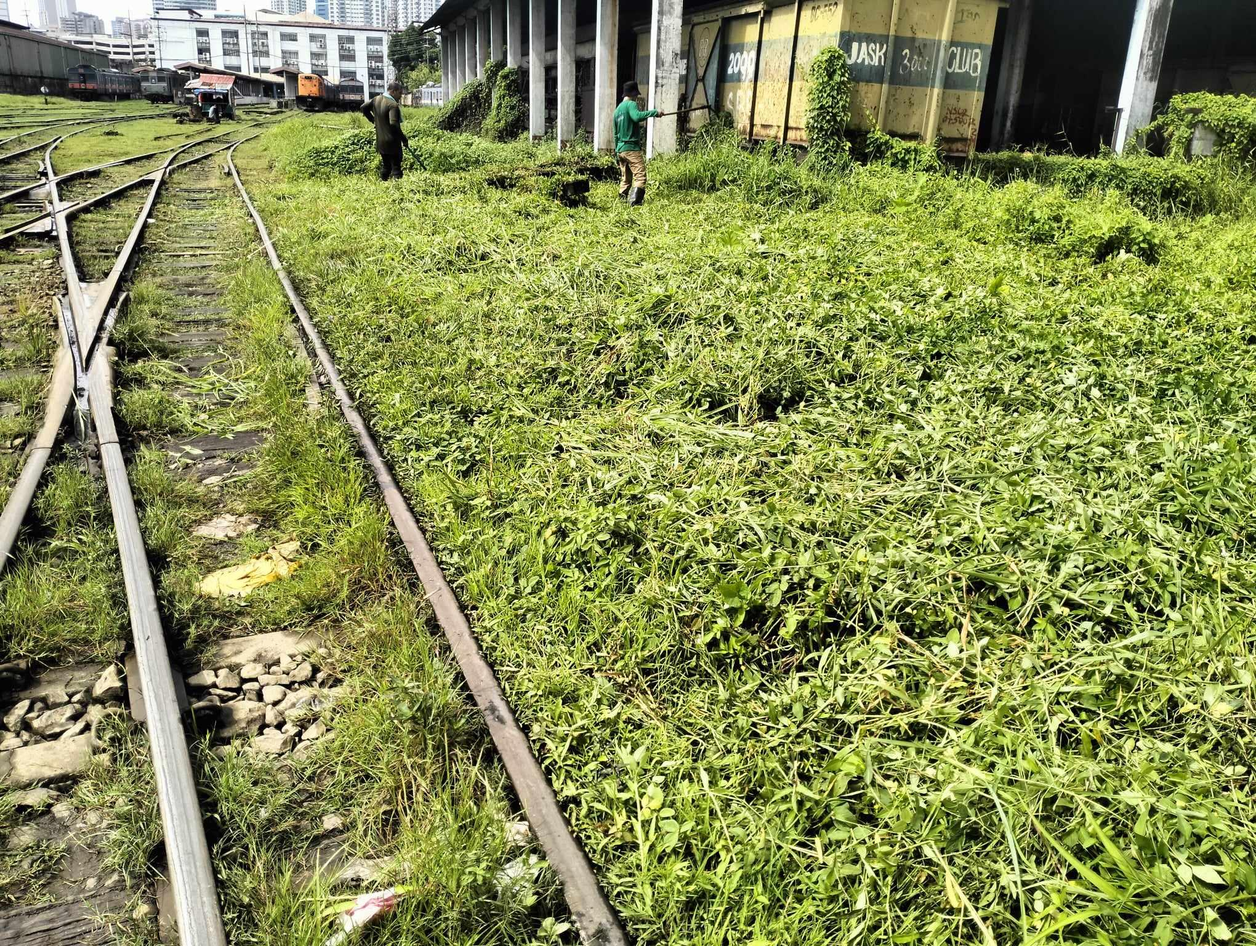railway-gap: (8, 414, 71, 481), (79, 414, 134, 474)
